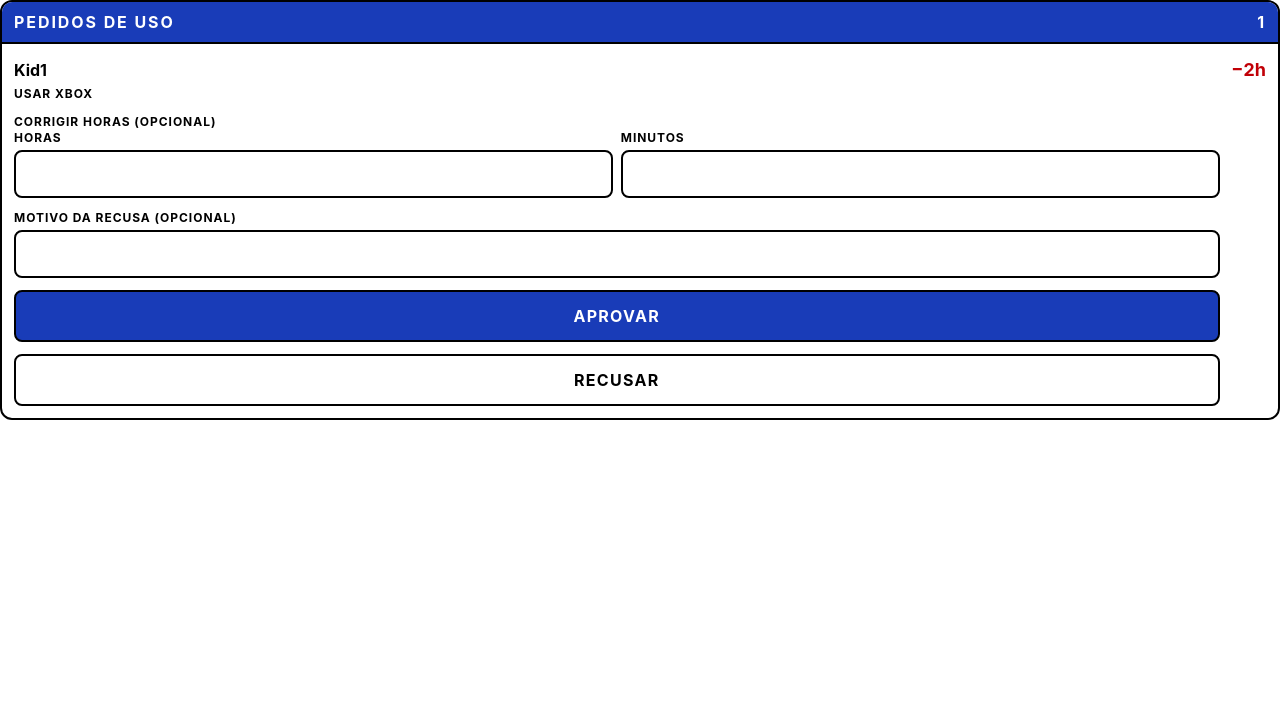
Scenario: approving a spend request in one tap (#107, D58) › keeps the request on the list when the write's answer is lost
The width and height of the screenshot is (1280, 720).
Click the button "Aprovar": (617, 316) [14,290,1220,342]
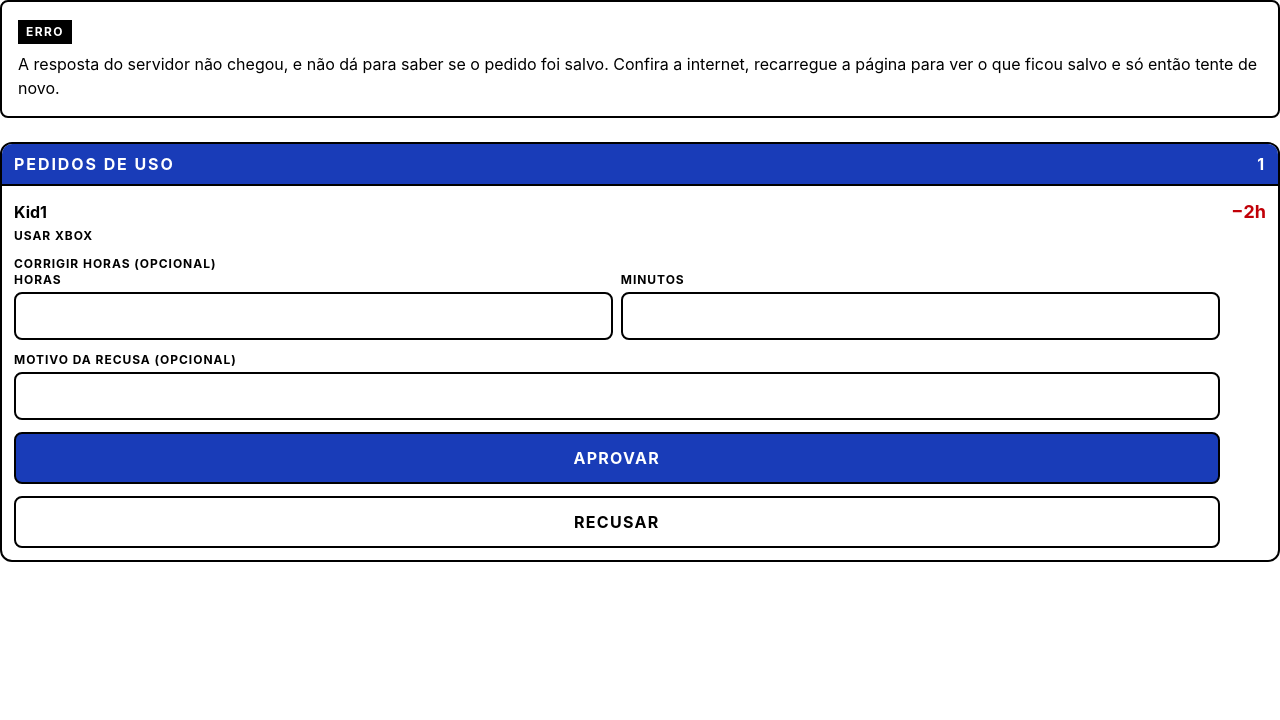
expect the text "Usar Xbox" is shown: met, box [14,228,93,243]
expect the text "A resposta do servidor não chegou, e não dá para saber se o pedido foi salvo. Confira a internet, recarregue a página para ver o que ficou salvo e só então tent" is shown: met, box [18,54,1257,98]
